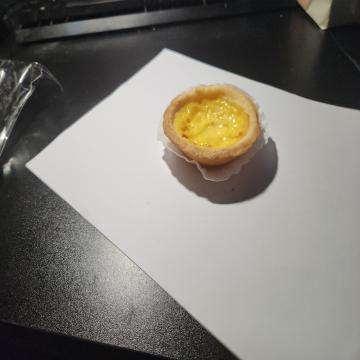EggTart: (162, 83, 261, 167)
